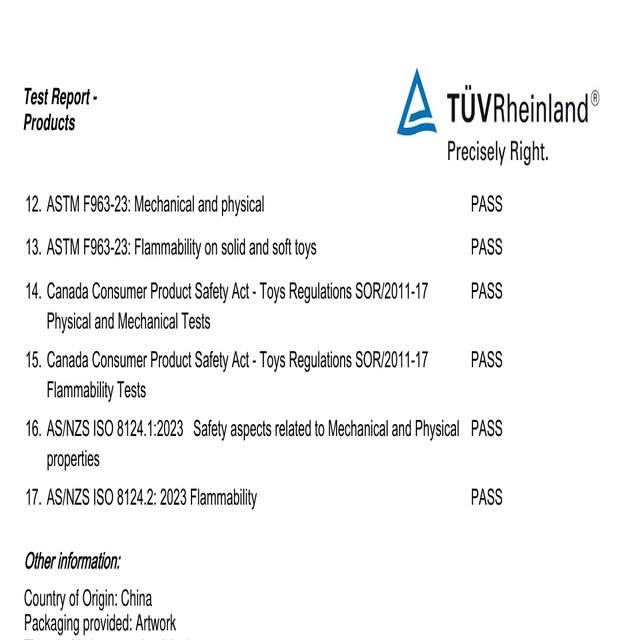tuv_rheinland: (396, 67, 602, 137)
